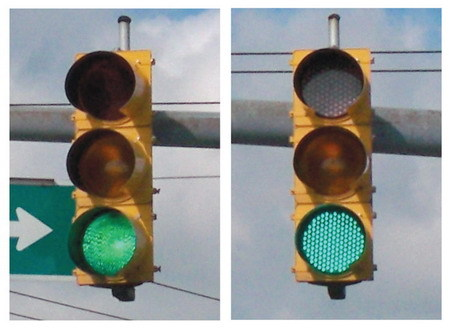greenlight: (65, 206, 142, 290), (294, 201, 372, 277)
